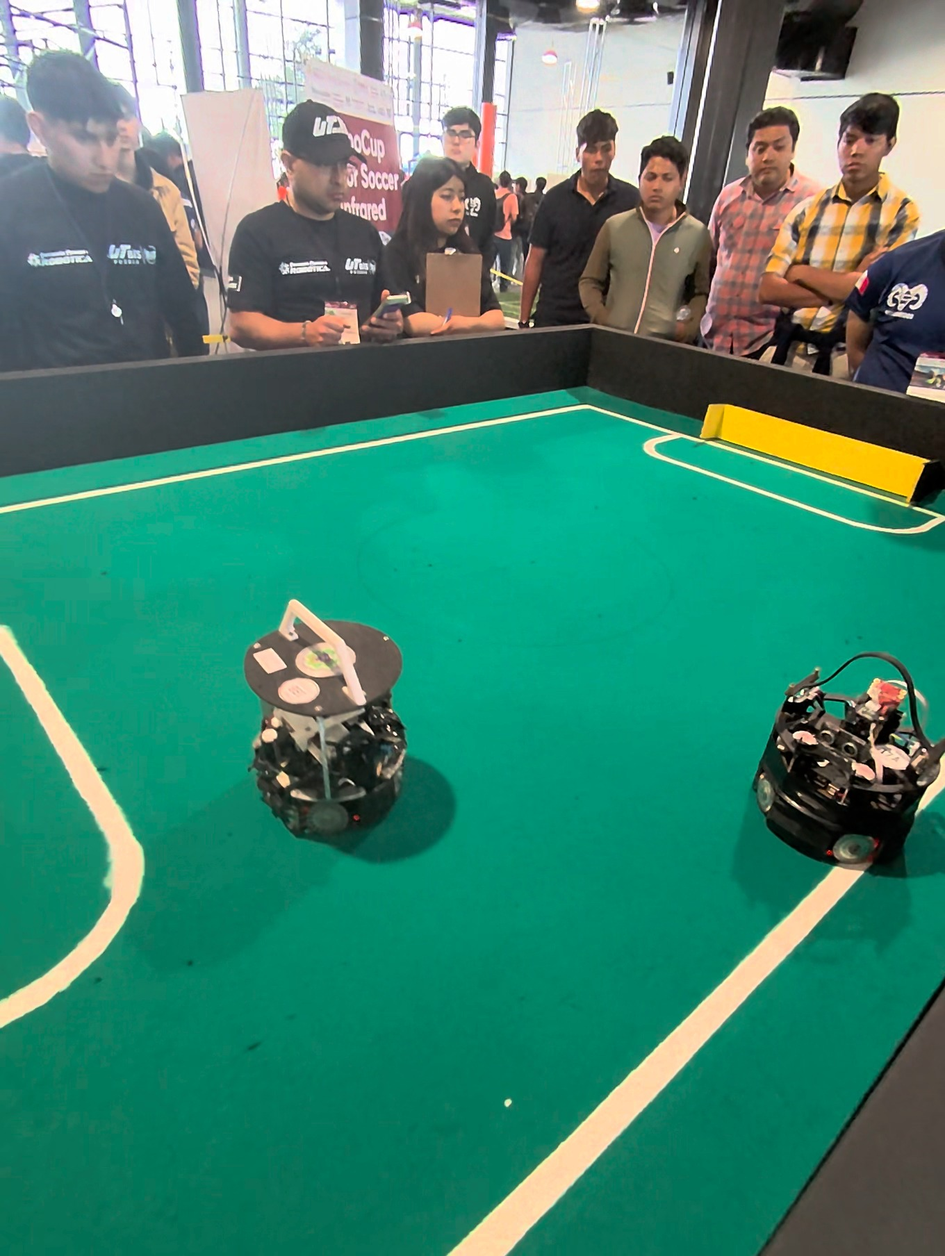Robot: (232, 570, 420, 862), (751, 635, 944, 879)
